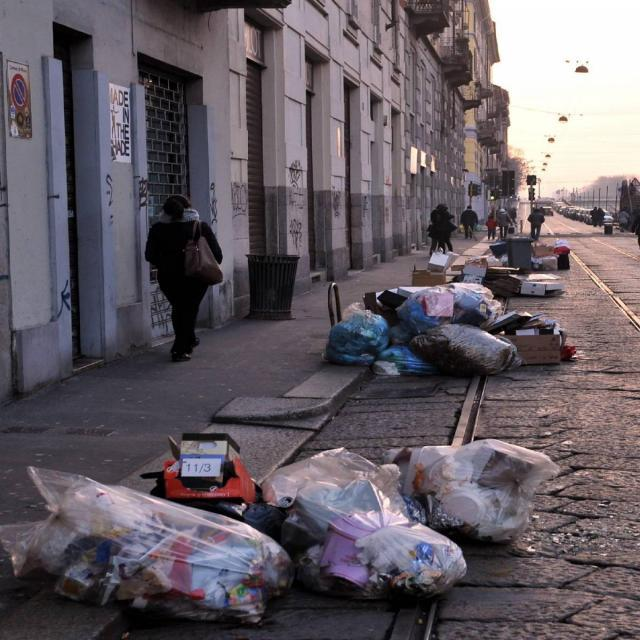garbage: (0, 422, 574, 640), (305, 268, 595, 383)
